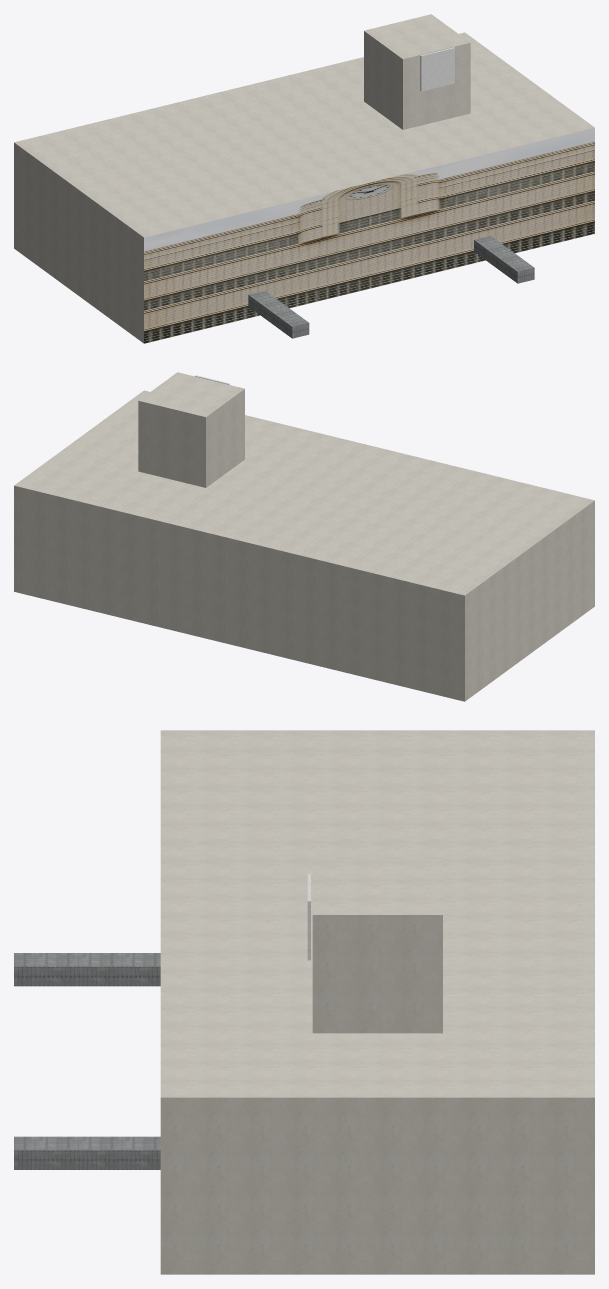
File: ferry-terminal_lod0.gltf
The picture shows the model from 3 angles, top to bottom: view 1: azimuth 30°, elevation 25°; view 2: azimuth 150°, elevation 25°; view 3: azimuth 270°, elevation 25°; orthographic projection. The views are drawn at different scales.
Visible parts, largest first — view 1: ferry-terminal_tier0, ferry-terminal_front, ferry-terminal_tier1, ferry-terminal__gangway_a, ferry-terminal__gangway_b, ferry-terminal__clock; view 2: ferry-terminal_tier0, ferry-terminal_tier1; view 3: ferry-terminal_tier0, ferry-terminal_tier1, ferry-terminal__gangway_a, ferry-terminal__gangway_b.
Boxes of the visible parts, box(x1,y1,x2,y2) form: ferry-terminal_tier0: box(14, 32, 594, 343); ferry-terminal_front: box(144, 127, 594, 343); ferry-terminal_tier1: box(364, 14, 470, 129); ferry-terminal__gangway_a: box(248, 290, 309, 338); ferry-terminal__gangway_b: box(474, 235, 534, 283); ferry-terminal__clock: box(420, 47, 454, 91); ferry-terminal_tier0: box(14, 390, 594, 701); ferry-terminal_tier1: box(138, 372, 244, 487); ferry-terminal_tier0: box(160, 730, 594, 1274); ferry-terminal_tier1: box(312, 860, 442, 1033); ferry-terminal__gangway_a: box(14, 953, 160, 986); ferry-terminal__gangway_b: box(14, 1136, 160, 1169).
Bounding box in the file's own units: 80 × 30 × 53.5.
